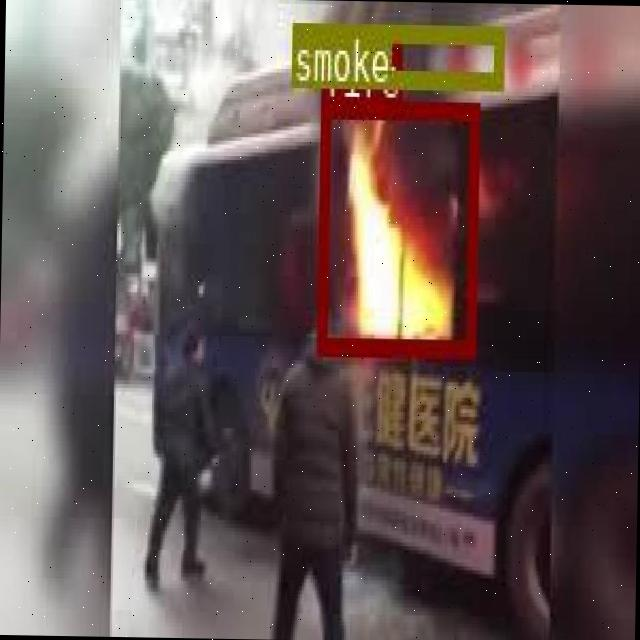fire: (316, 97, 476, 355)
smoke: (289, 19, 501, 88)
